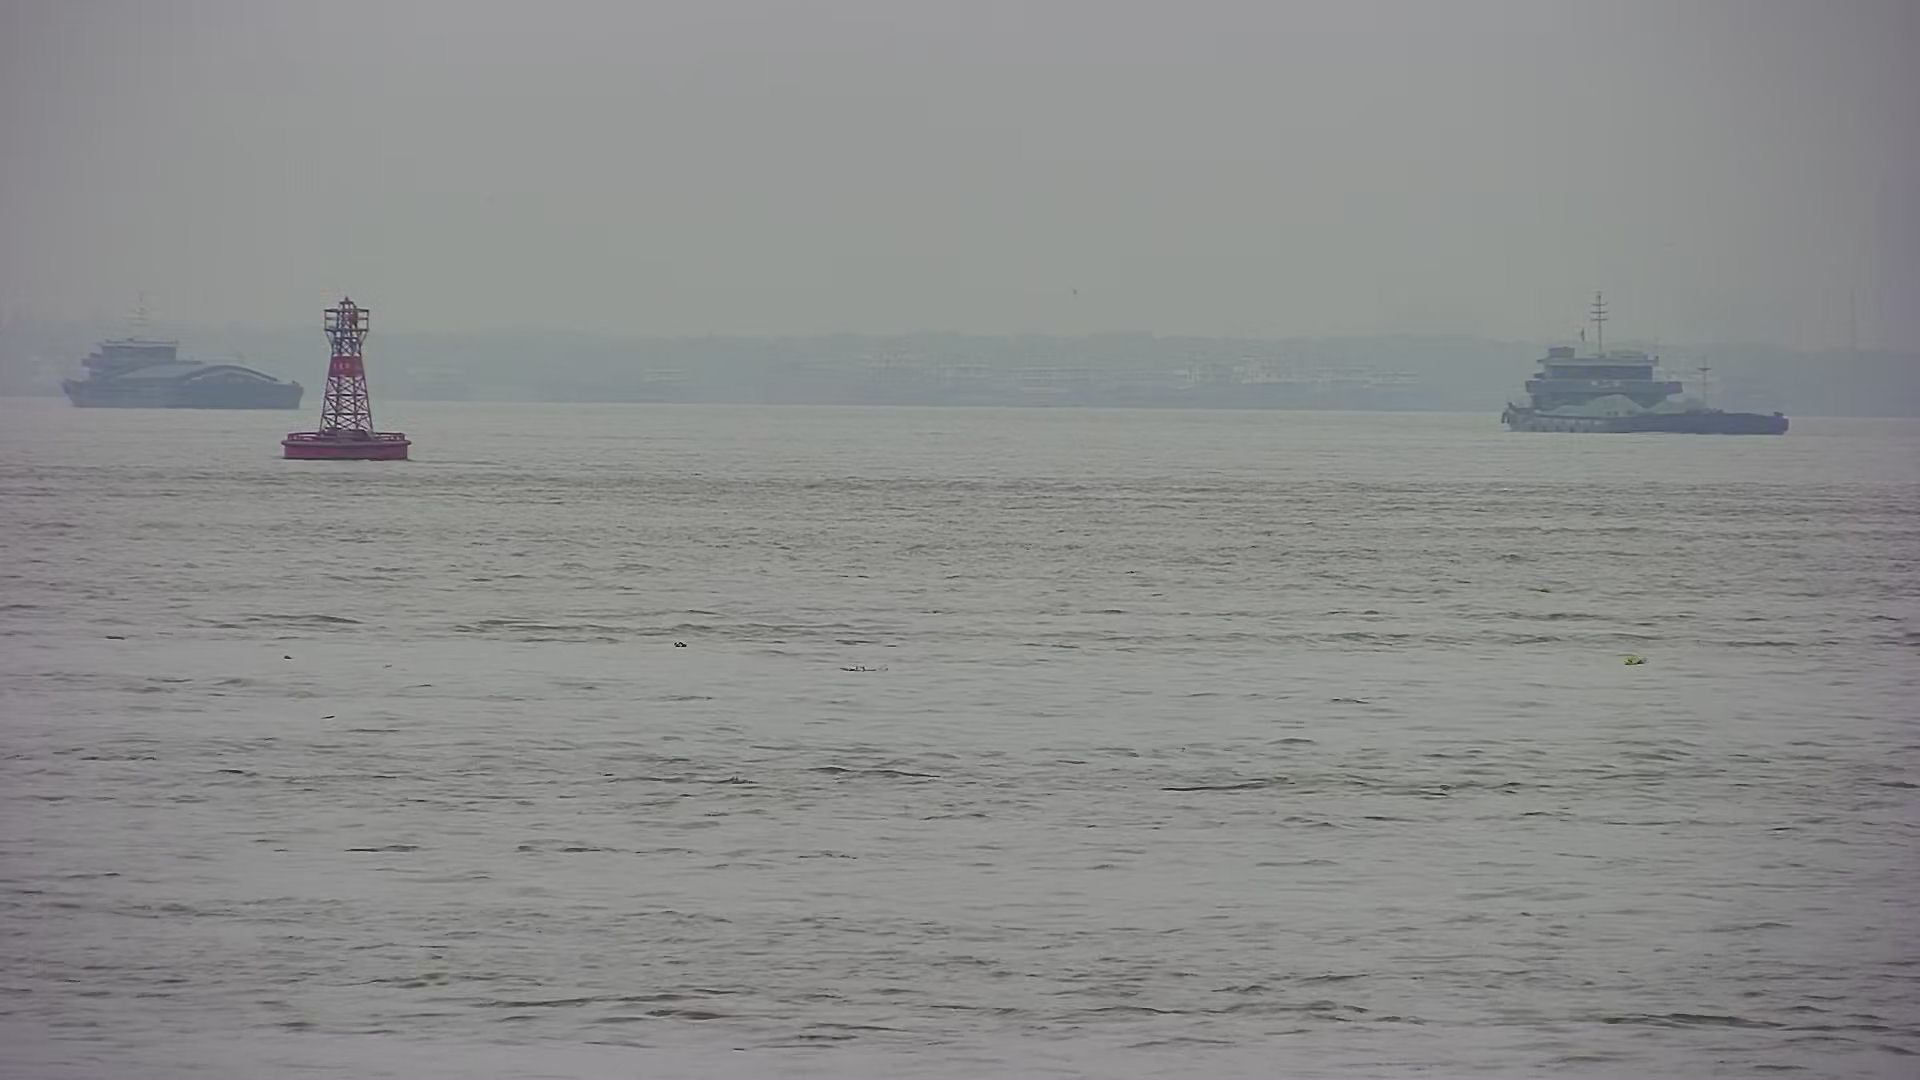buoy: (276, 284, 426, 473)
ship: (1494, 303, 1799, 439), (40, 282, 313, 418)
